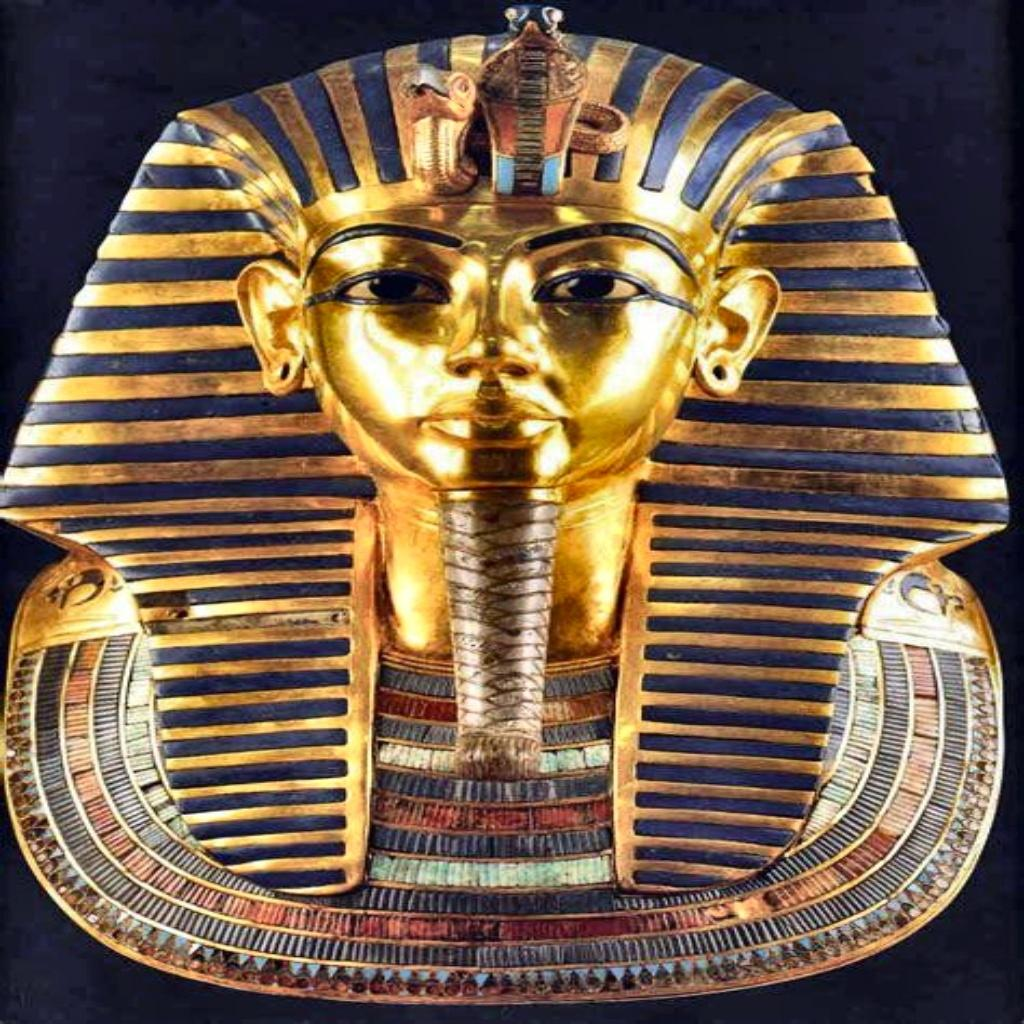Mask of Tutankhamun: (2, 4, 1011, 1006)
